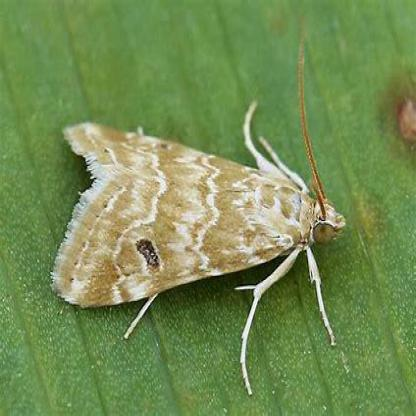Hellula undalis: (51, 20, 354, 401)
